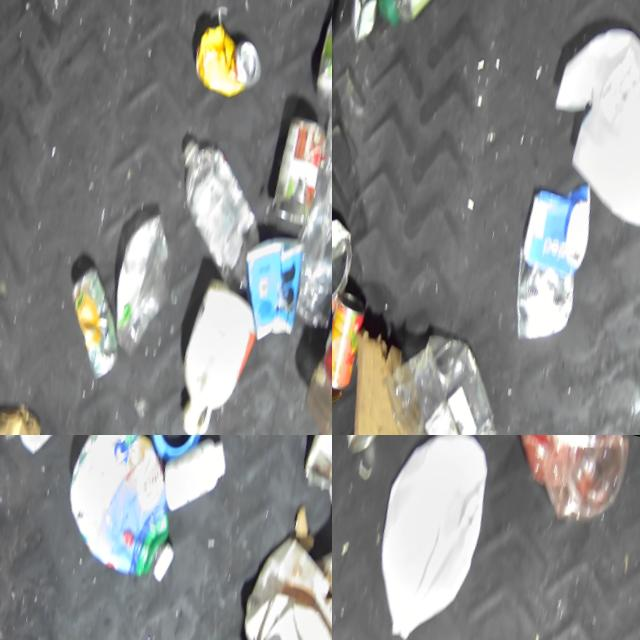can: (38, 259, 130, 384), (251, 110, 331, 232), (489, 250, 576, 349), (178, 17, 269, 107), (332, 205, 358, 327), (334, 0, 385, 45), (332, 435, 394, 464)
milk_jug: (340, 435, 513, 640), (515, 12, 640, 239), (145, 271, 267, 435)
non_white_jug: (35, 435, 194, 588)
plastic_bottle: (140, 132, 277, 300), (260, 198, 332, 435), (287, 0, 332, 146), (361, 0, 469, 36)
